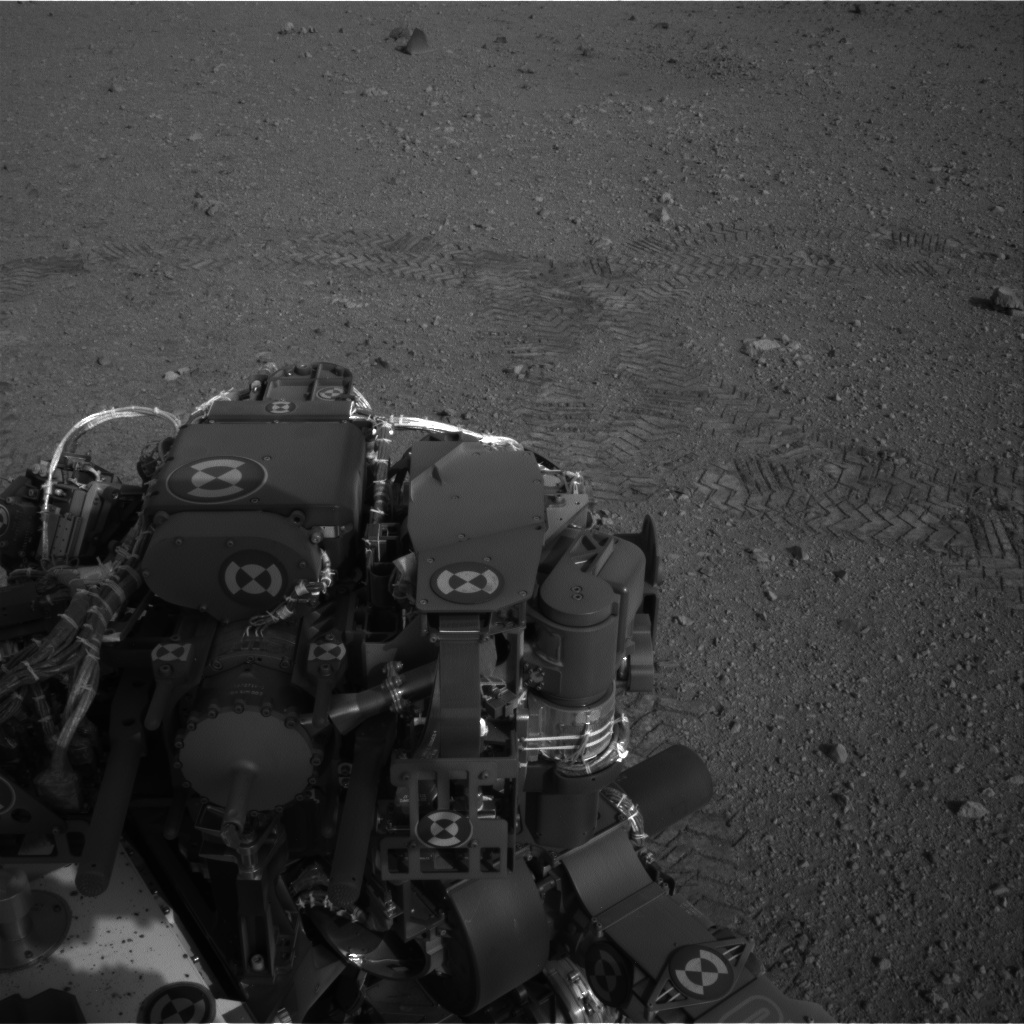soil: (3, 5, 1019, 1018)
